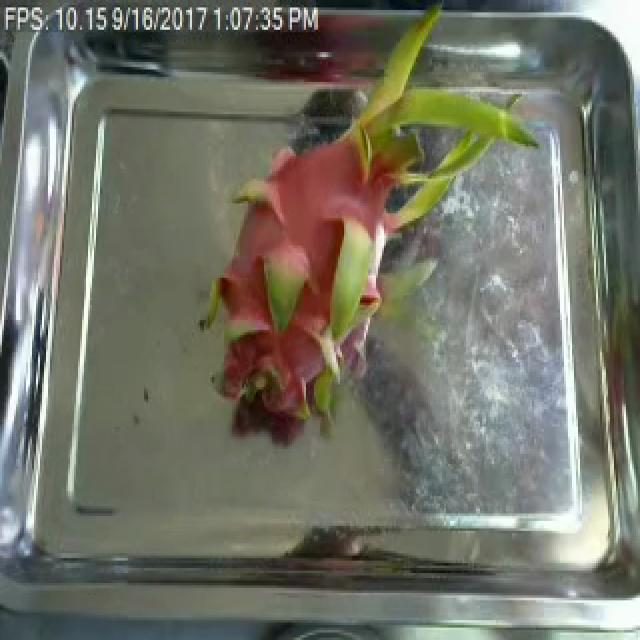fruit: (170, 47, 504, 457)
